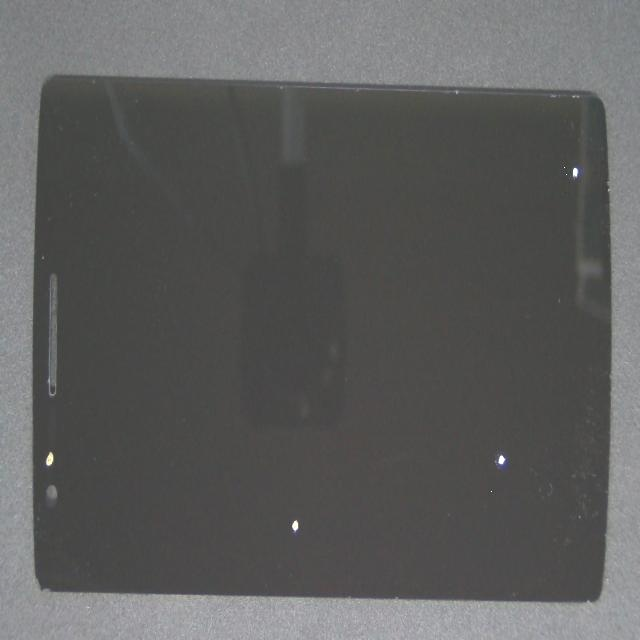stain: (238, 208, 640, 640), (138, 252, 422, 640), (279, 82, 640, 250), (42, 179, 67, 640)
